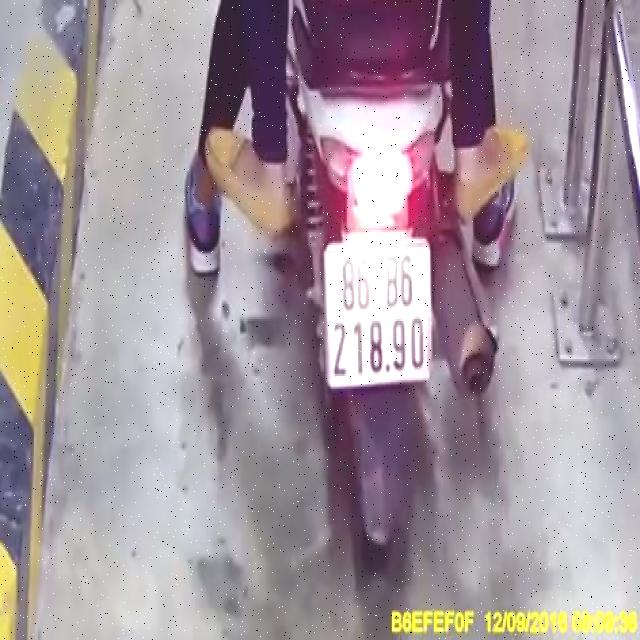0: (410, 314, 425, 372)
1: (352, 319, 364, 377)
2: (332, 320, 348, 378)
6: (357, 254, 371, 312), (400, 252, 414, 310)
8: (368, 318, 384, 376), (341, 256, 356, 312)
9: (391, 317, 407, 374)
B: (384, 252, 400, 310)
